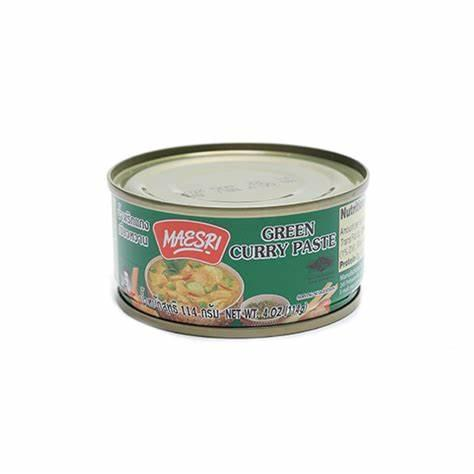metal: (108, 143, 369, 338)
